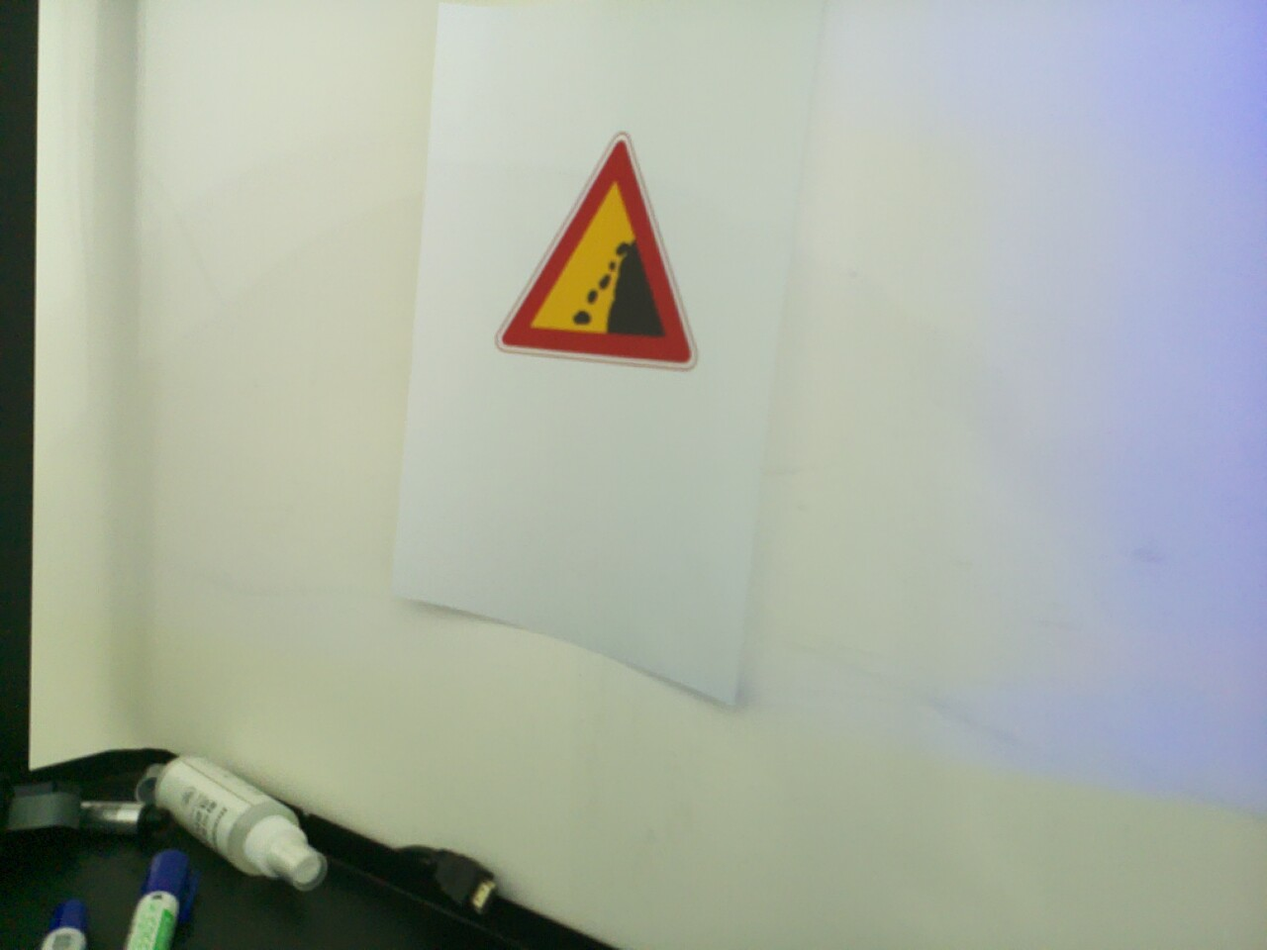falling_rocks: (495, 133, 698, 371)
